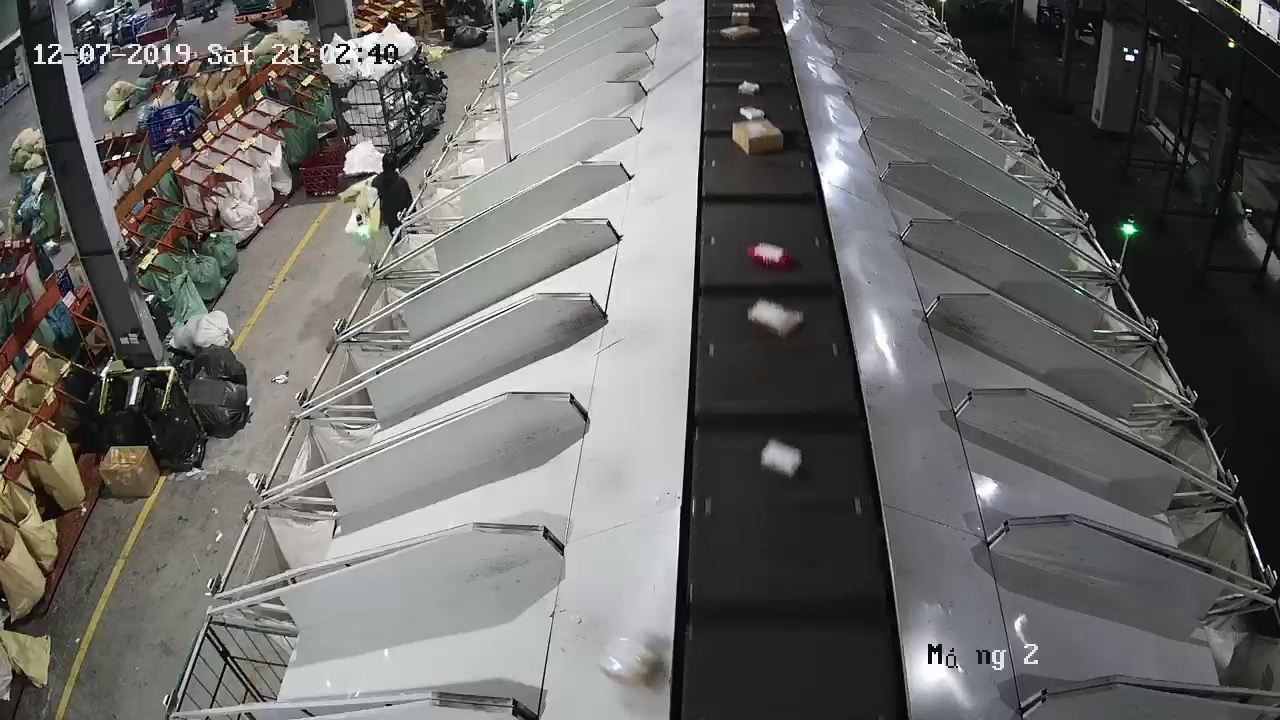parcel: (596, 634, 664, 690)
